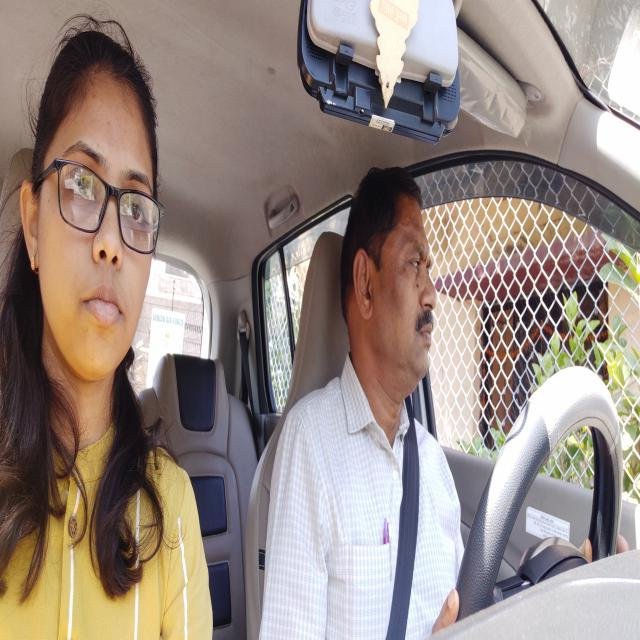person: (35, 47, 159, 382), (349, 167, 442, 386)
